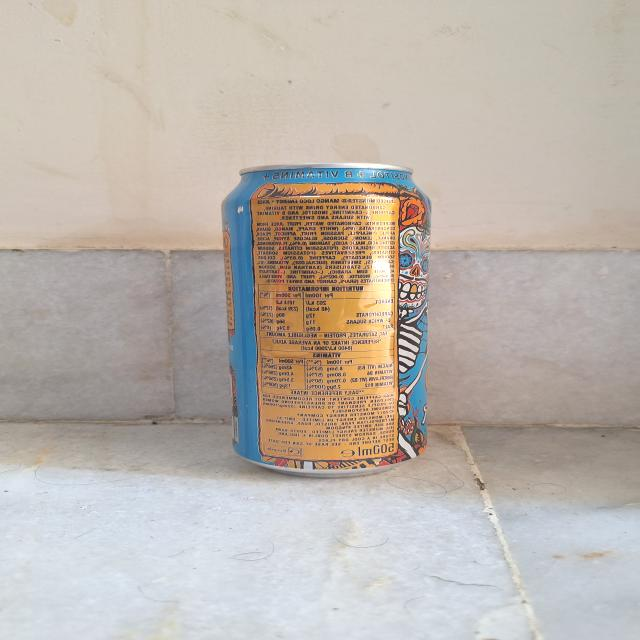Monster Mango Loco: (185, 156, 456, 484)
